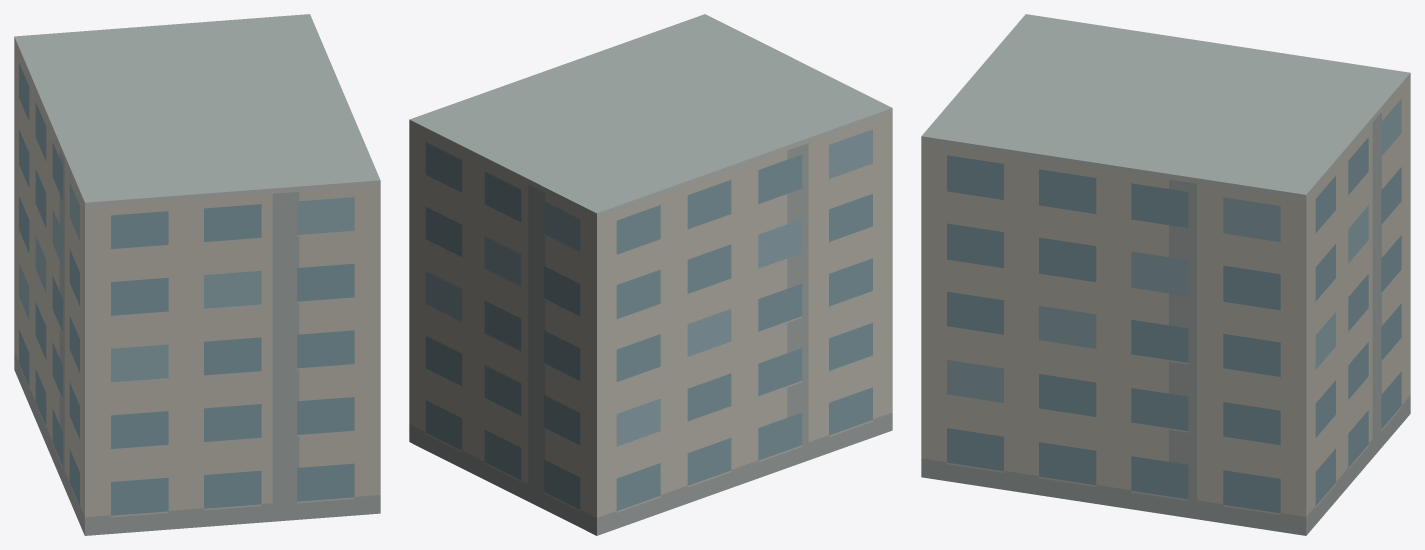
File: residential-d97fb4f9-e10d-4b00-82aa-0f9168d8b659.glb
3 views of the same model, side by side, from view 1: azimuth 30°, elevation 25°; view 2: azimuth 150°, elevation 25°; view 3: azimuth 270°, elevation 25° (orthographic). The views are drawn at different scales.
Parts seen in each view (by area): view 1: residential-d97fb4f9-e10d-4b00-82aa-0f9168d8b659.tmp; view 2: residential-d97fb4f9-e10d-4b00-82aa-0f9168d8b659.tmp; view 3: residential-d97fb4f9-e10d-4b00-82aa-0f9168d8b659.tmp.
Part boxes in pixels (x1,y1,x2,y2): residential-d97fb4f9-e10d-4b00-82aa-0f9168d8b659.tmp: (14, 14, 380, 535); residential-d97fb4f9-e10d-4b00-82aa-0f9168d8b659.tmp: (409, 14, 892, 535); residential-d97fb4f9-e10d-4b00-82aa-0f9168d8b659.tmp: (921, 14, 1410, 535).
Size of the model in its own units: 17.36 by 15.25 by 19.84.
